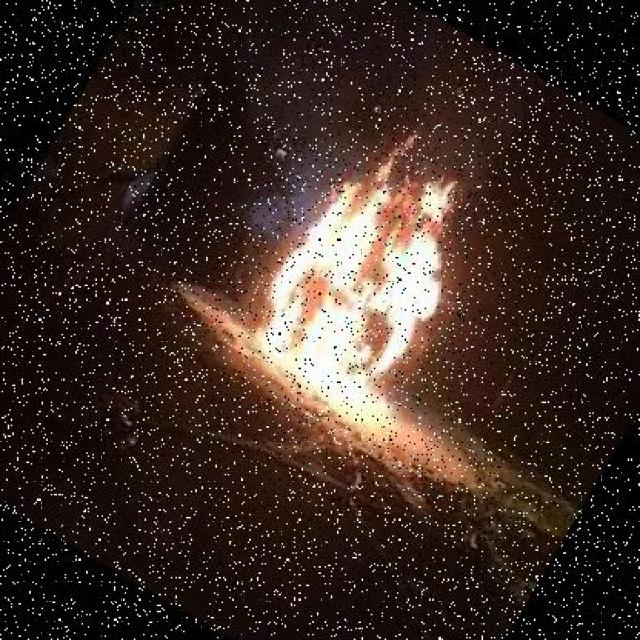fire: (226, 110, 526, 448)
